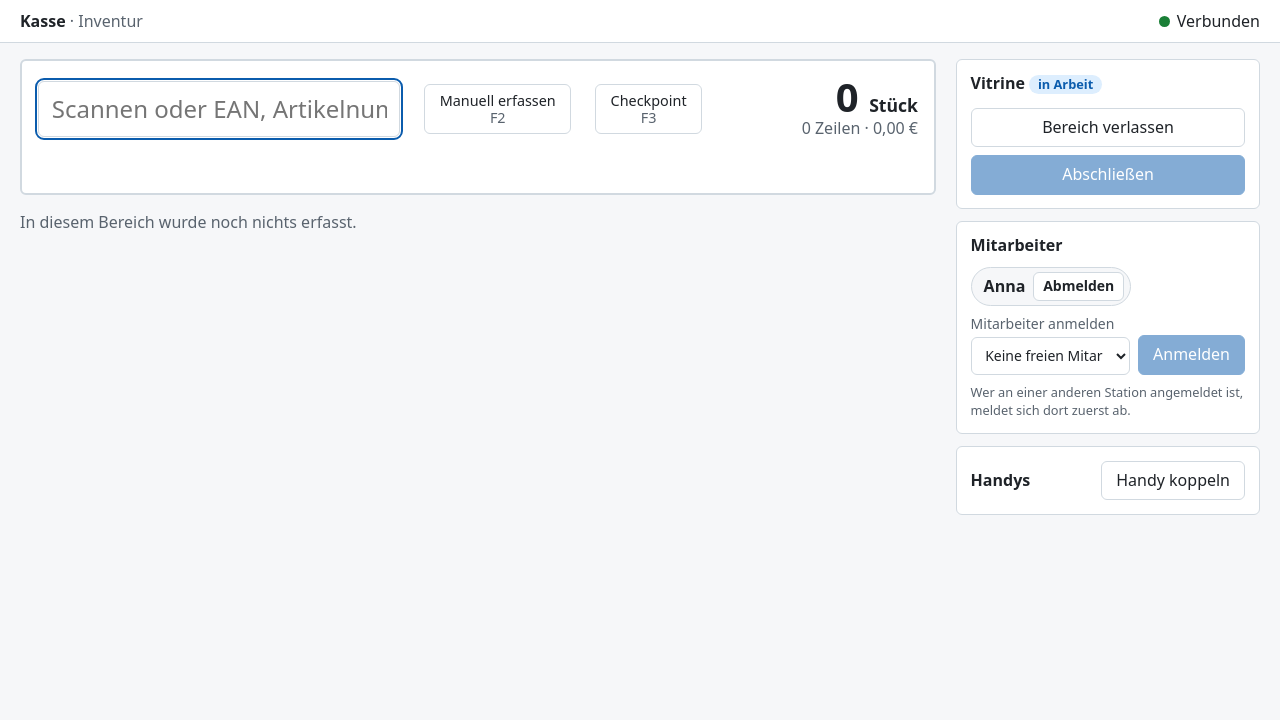
Scenario: capture › captures a unique article: green, listed and counted
Type "4000000000017" into the field named "Eingabe: EAN" at coordinates (219, 109), box x1=38 y1=81 x2=400 y2=137
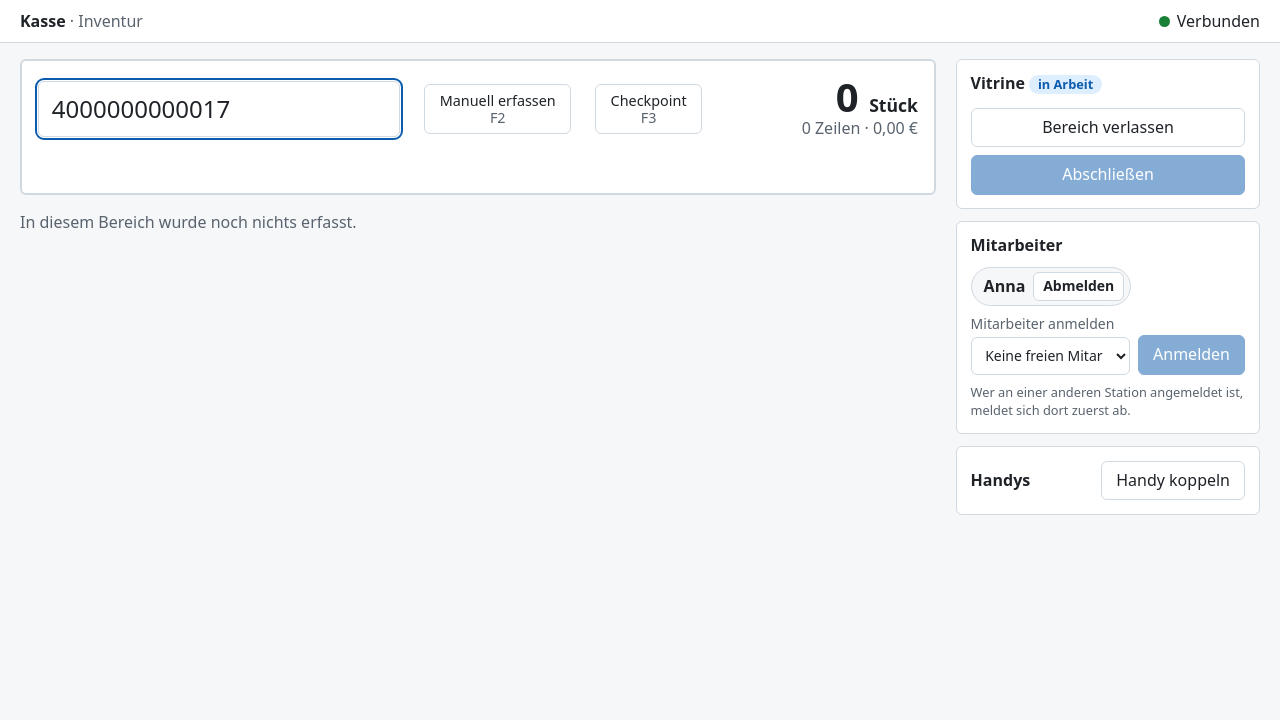
Press Enter in the field named "Eingabe: EAN", box x1=38 y1=81 x2=400 y2=137
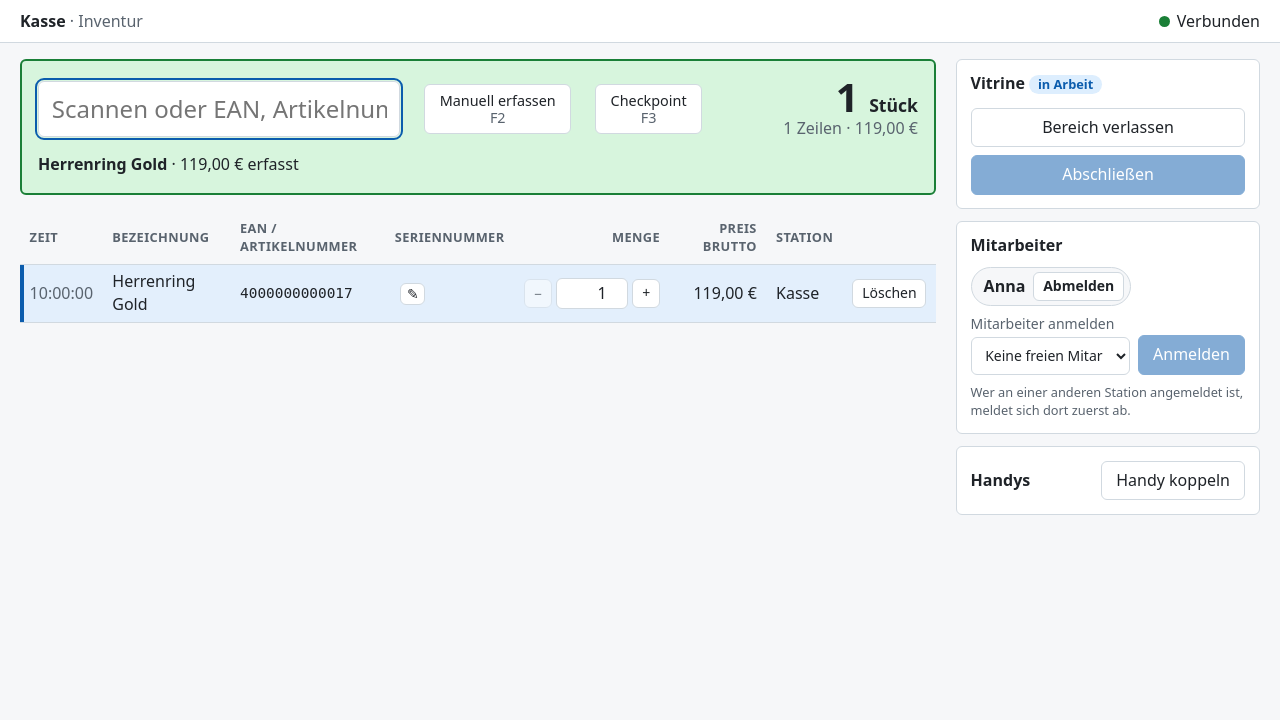
Expected: the field named "Eingabe: EAN" is empty, x1=38 y1=81 x2=400 y2=137
Expected: the table with class "entries" shows "Herrenring Gold", x1=112 y1=270 x2=196 y2=316
Expected: the element named "Summe im Bereich" shows "1 Stück", x1=783 y1=69 x2=918 y2=139
